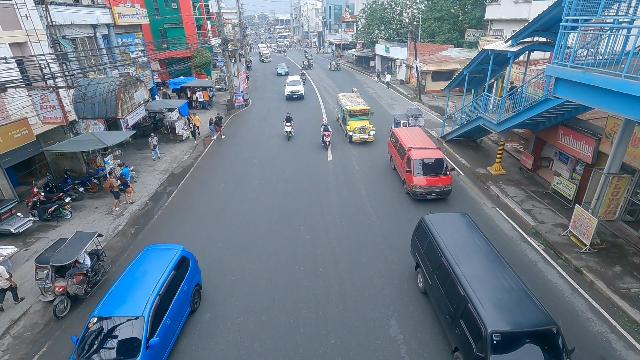car: (67, 242, 205, 360), (284, 75, 305, 100), (274, 63, 290, 75)
jeepney: (335, 93, 375, 143), (259, 50, 271, 63), (258, 43, 269, 51)
motorcycle: (319, 119, 333, 151), (282, 111, 294, 141), (246, 59, 252, 71), (304, 49, 309, 59), (284, 48, 287, 57)
van: (411, 211, 572, 360), (387, 126, 453, 199)
